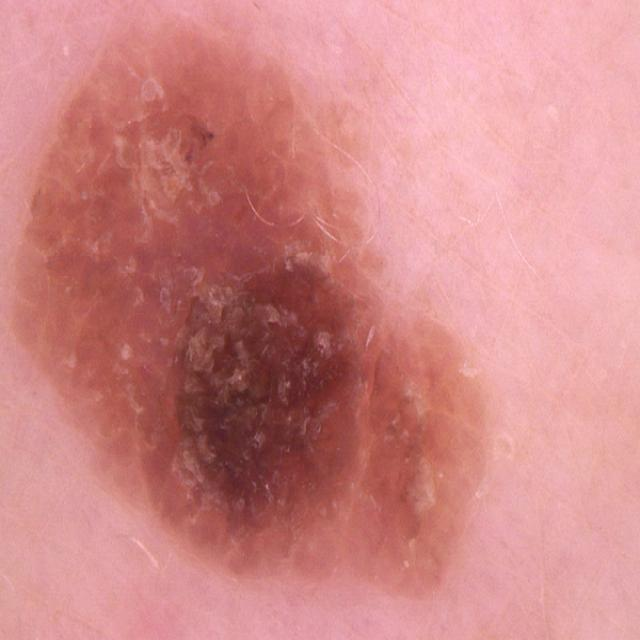Skin-Cancer Pigmented benign keratosis: (35, 41, 559, 640)
